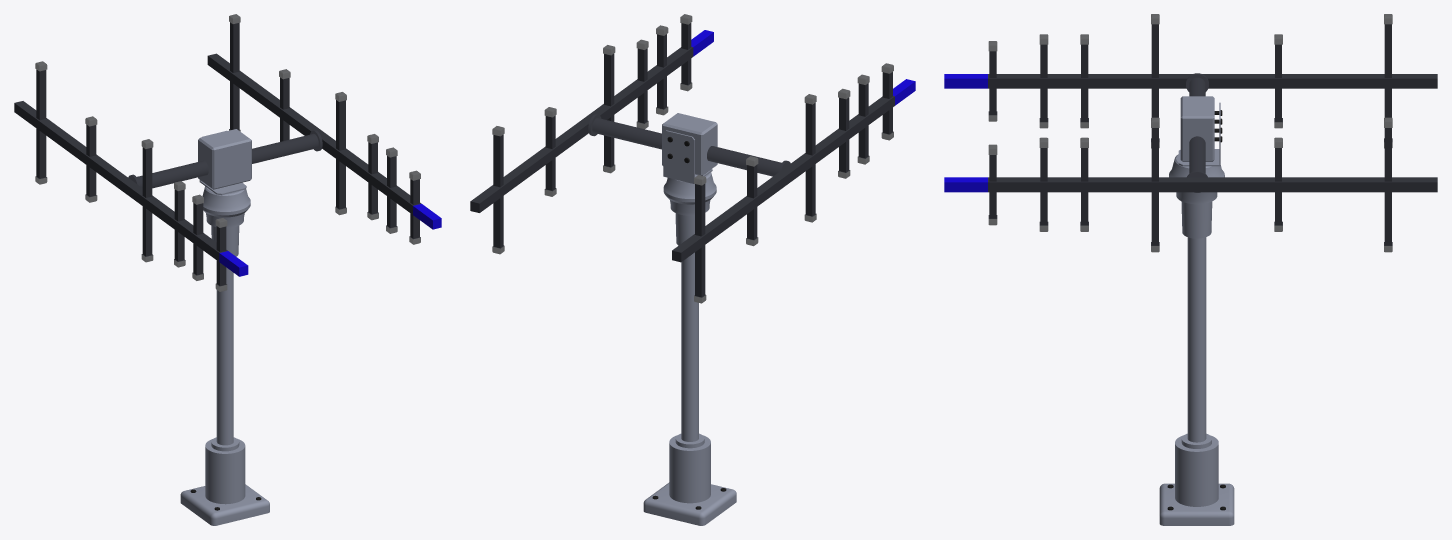
File: finalscene.gltf
3 renders of one model, left to right at view 1: azimuth 30°, elevation 25°; view 2: azimuth 150°, elevation 25°; view 3: azimuth 270°, elevation 25°, orthographic. The views are drawn at different scales.
Parts seen in each view (by area): view 1: elevation_cylinder_1, basecylinder_1, azimuthcylinder_1, elevation_cylinder, elevation_cylinder_2; view 2: elevation_cylinder_1, basecylinder_1, azimuthcylinder_1, elevation_cylinder, elevation_cylinder_2; view 3: elevation_cylinder_1, basecylinder_1, azimuthcylinder_1, elevation_cylinder_2, elevation_cylinder.
Part boxes in pixels (x1=…): elevation_cylinder_1: x1=14, y1=22, x2=441, y2=286; basecylinder_1: x1=180, y1=213, x2=269, y2=525; azimuthcylinder_1: x1=198, y1=129, x2=251, y2=217; elevation_cylinder: x1=128, y1=130, x2=322, y2=188; elevation_cylinder_2: x1=35, y1=14, x2=420, y2=291; elevation_cylinder_1: x1=470, y1=23, x2=915, y2=297; basecylinder_1: x1=643, y1=200, x2=736, y2=525; azimuthcylinder_1: x1=662, y1=113, x2=717, y2=204; elevation_cylinder: x1=588, y1=114, x2=790, y2=176; elevation_cylinder_2: x1=492, y1=14, x2=893, y2=303; elevation_cylinder_1: x1=944, y1=24, x2=1437, y2=245; basecylinder_1: x1=1159, y1=192, x2=1234, y2=525; azimuthcylinder_1: x1=1169, y1=96, x2=1224, y2=177; elevation_cylinder_2: x1=988, y1=14, x2=1392, y2=252; elevation_cylinder: x1=1186, y1=73, x2=1208, y2=192.
Size of the model in its own units: 6.88 by 13.12 by 13.25.
